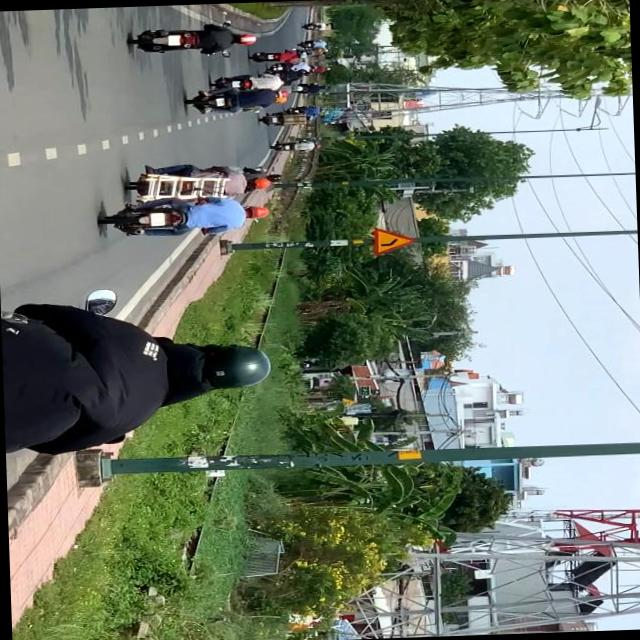W-201a: (373, 227, 419, 256)
